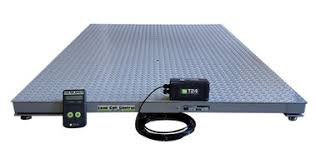Industrial Scale: (11, 24, 307, 143)
